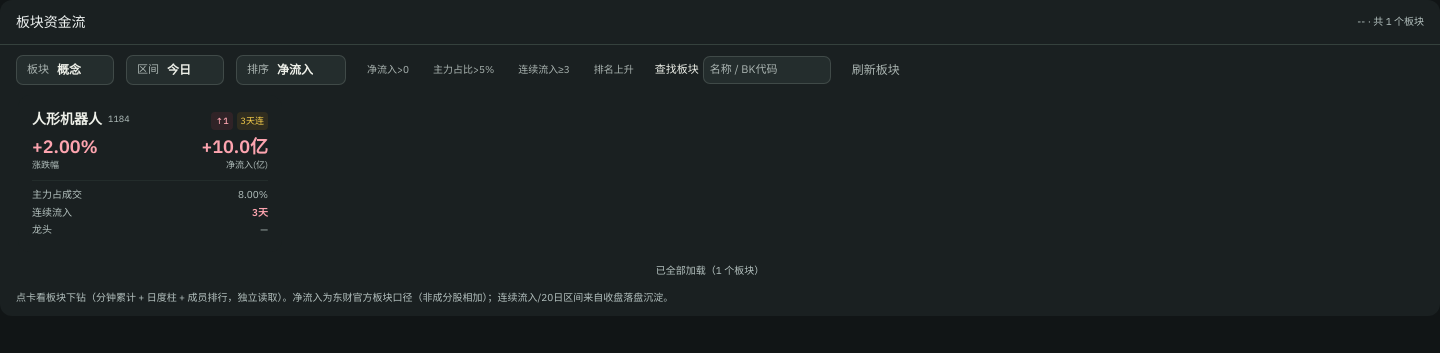
Test: 唯一市场板块官网全集 › 历史URL进入官网不保留无效ratio/streak/rank筛选或排序，合法净流入条件保留
The image size is (1440, 353).
Check: the element with test id "board-row-BK1184" is shown, box [16,93,284,254]
Click the button "主力占比>5%": (464, 70) [424,56,503,84]
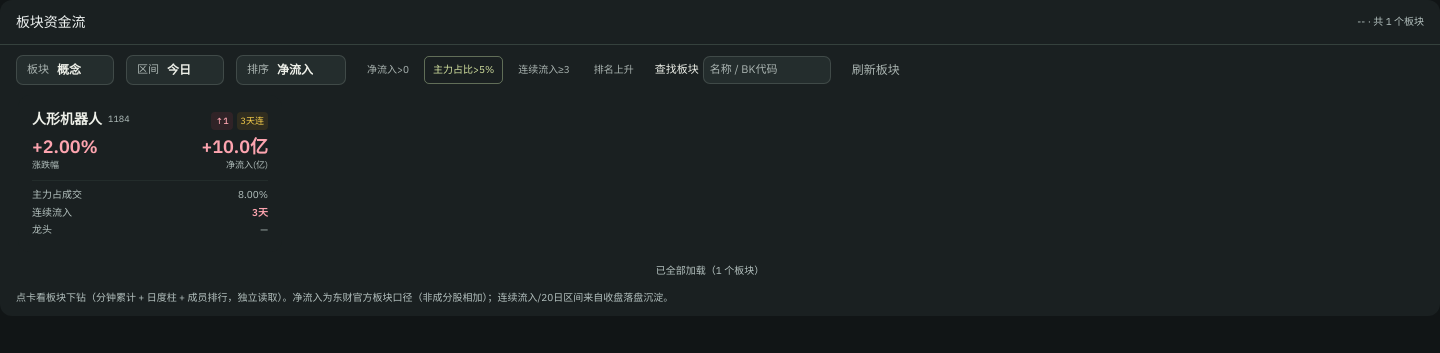
Click the button "连续流入≥3": (544, 70) [509,56,579,84]
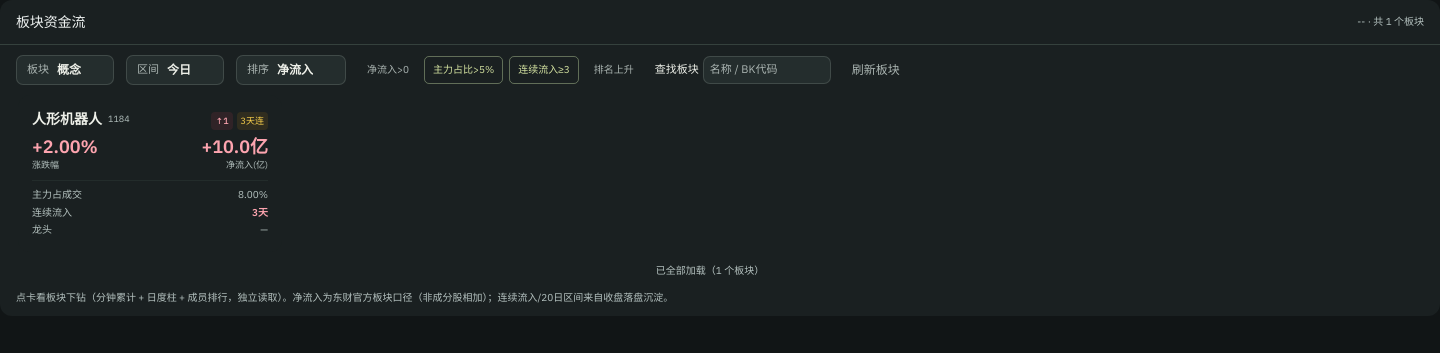
Click the button "排名上升": (614, 70) [585,56,643,84]
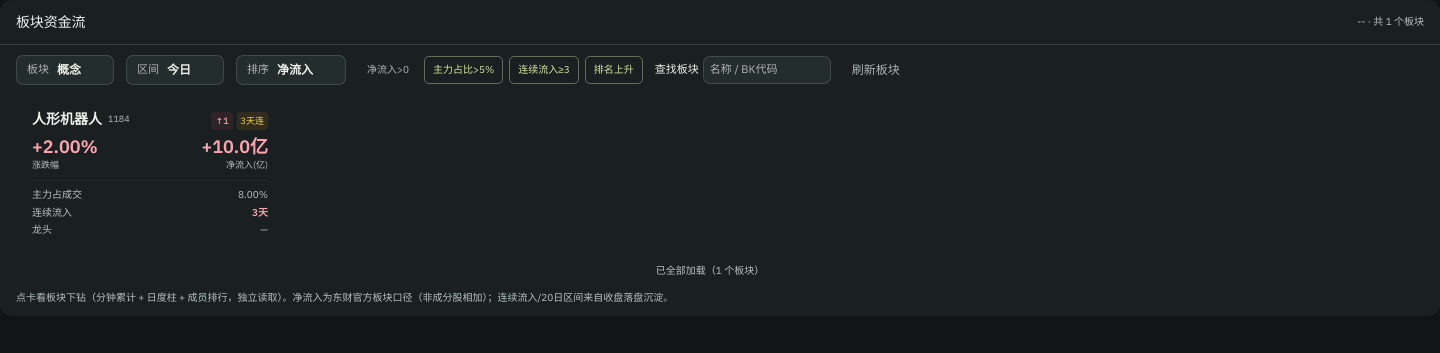
Click the button "净流入>0": (388, 70) [358,56,418,84]
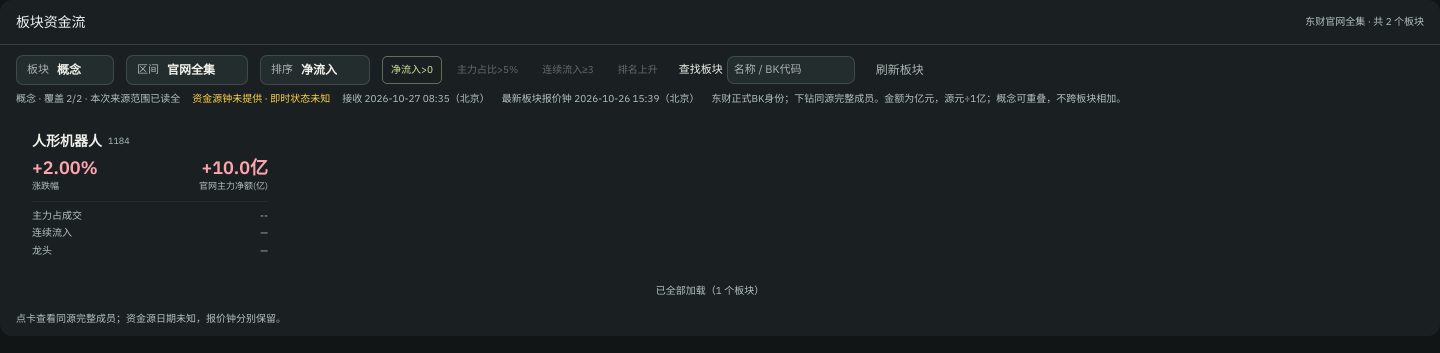
Check: the element with test id "board-row-BK1184" is shown, box [16,114,284,274]
Check: the button "主力占比>5%" is disabled, box [448,56,527,84]
